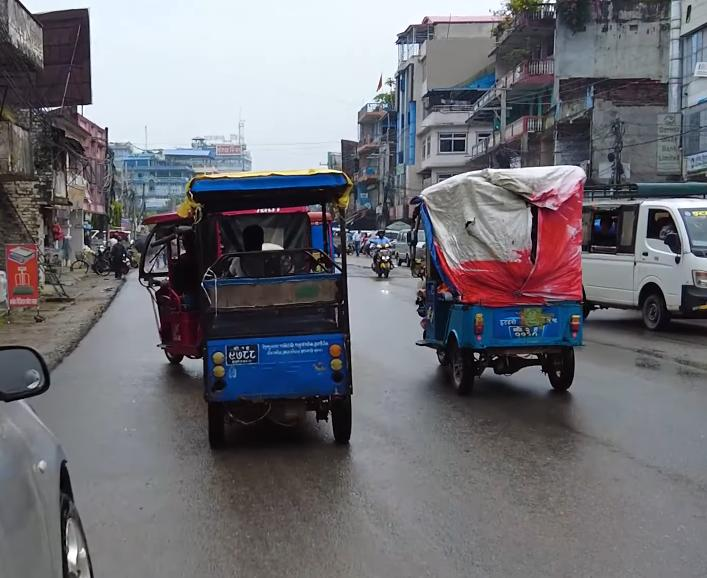e-rickshaw: (188, 158, 358, 457), (412, 160, 591, 408)
scooter: (369, 239, 395, 281)
